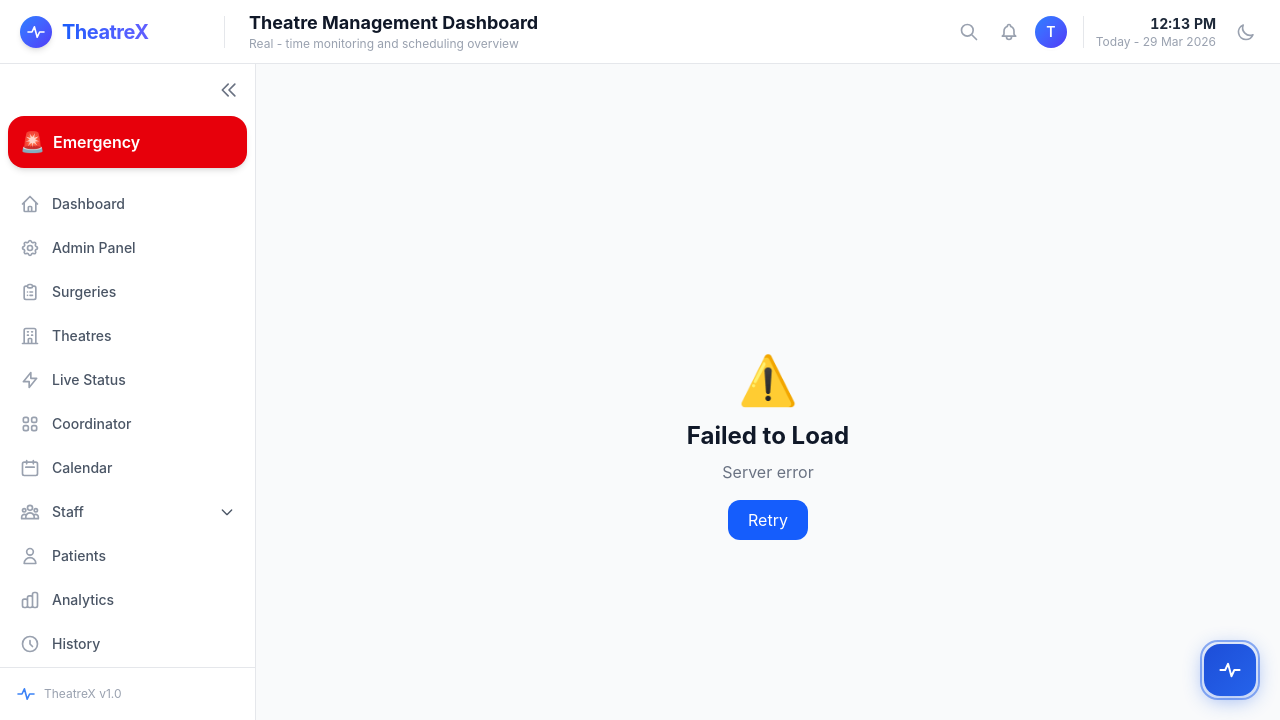
Test: CoordinatorDashboard Page Tests - M6 Day 12 › Error State › should refetch overview when Retry is clicked
Click the button "Retry" at (768, 520), box [728,500,808,540]
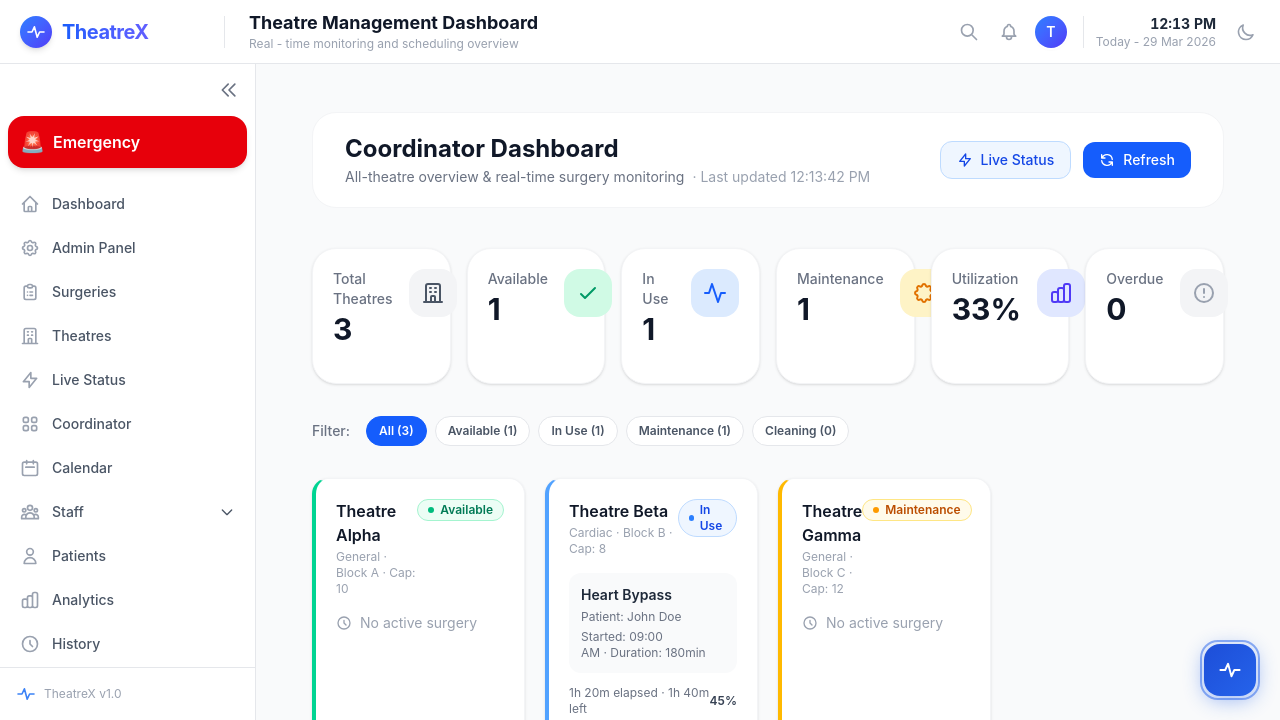
Result: the heading "Coordinator Dashboard" is shown at [345,134,619,163]
